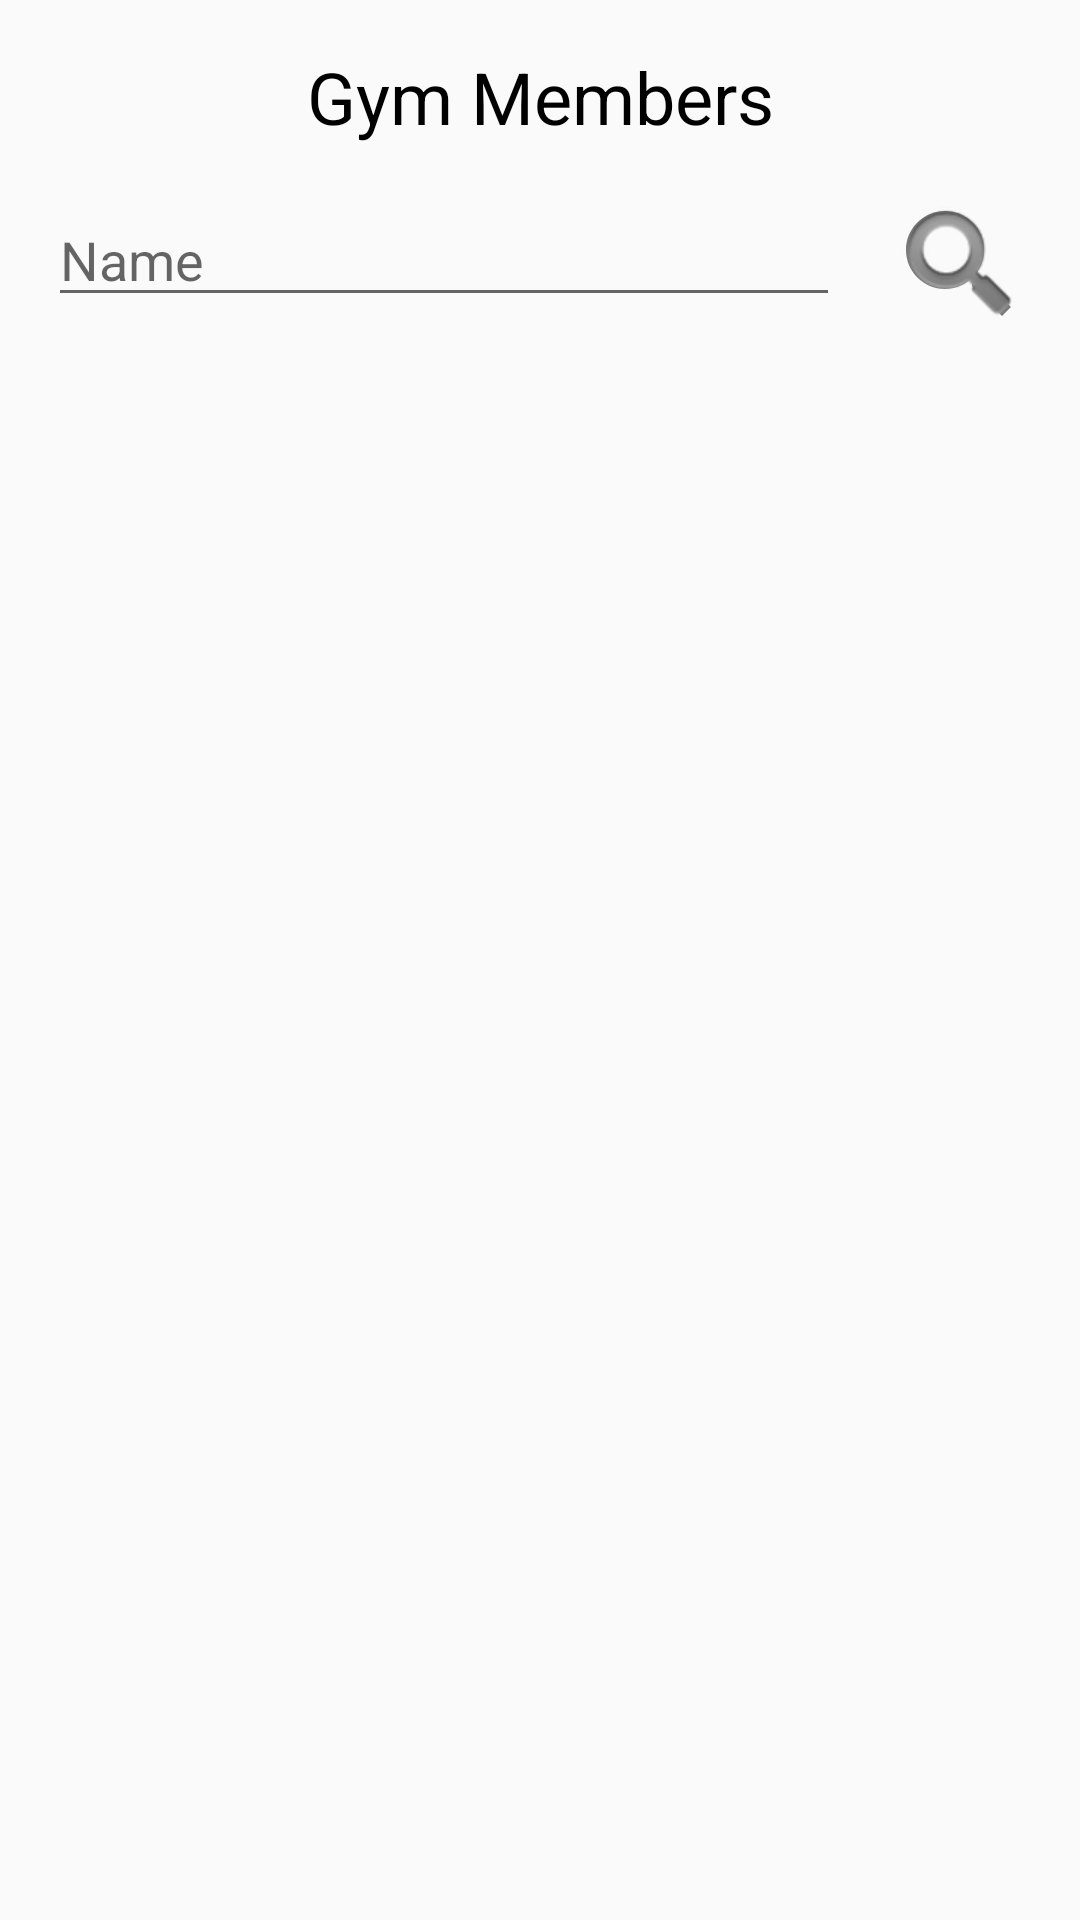

Where icons sit on this 1080×1920 app screen, as (x1, y1, x2, y2):
search category: (906, 210, 1011, 316)
